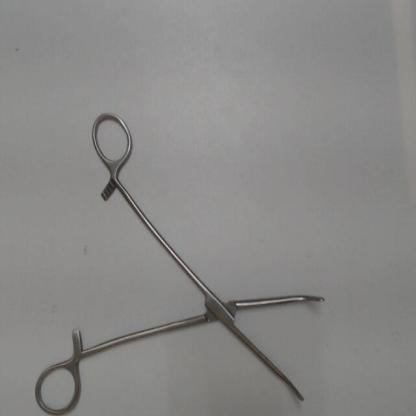Lahey Forceps: (29, 102, 332, 414)
